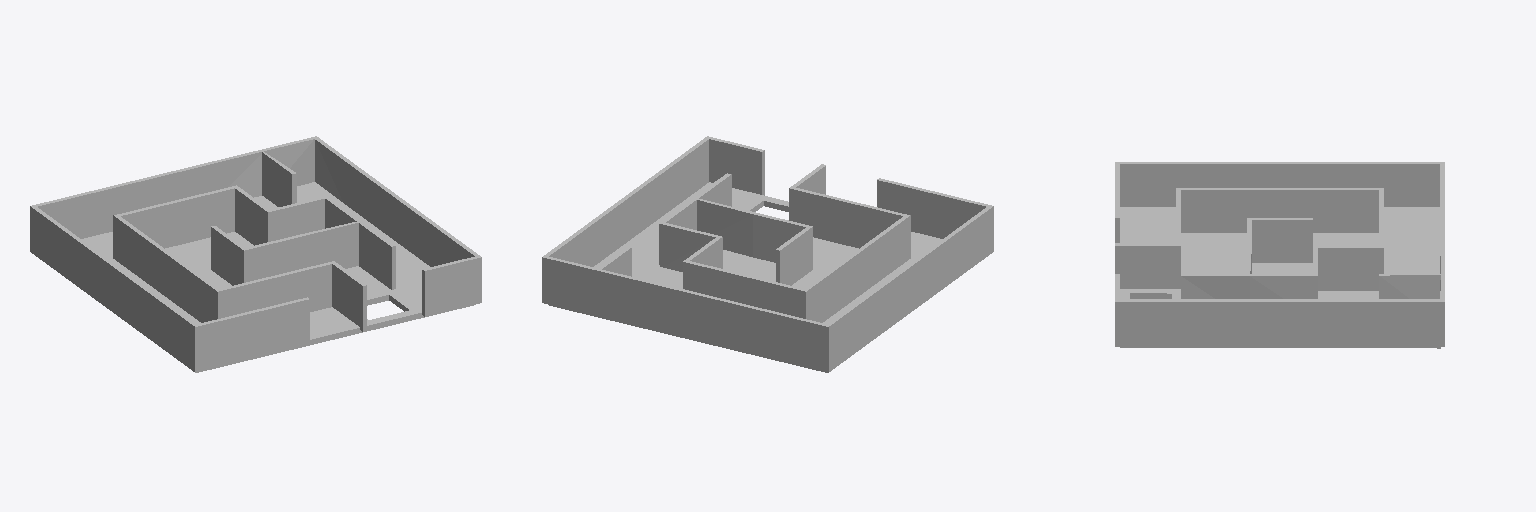
Rendered from maze_easy.obj.
3 renders of one model, left to right at view 1: azimuth 30°, elevation 25°; view 2: azimuth 150°, elevation 25°; view 3: azimuth 270°, elevation 25°, orthographic.
Parts seen in each view (by area): view 1: maze_easy_Mesh.008; view 2: maze_easy_Mesh.008; view 3: maze_easy_Mesh.008.
Boxes of the visible parts, x1,y1,x2,y2 form: maze_easy_Mesh.008: [30, 136, 481, 372]; maze_easy_Mesh.008: [542, 136, 993, 372]; maze_easy_Mesh.008: [1115, 162, 1444, 348].
Bounding box in the file's own units: 13.1 × 2.13 × 13.09.